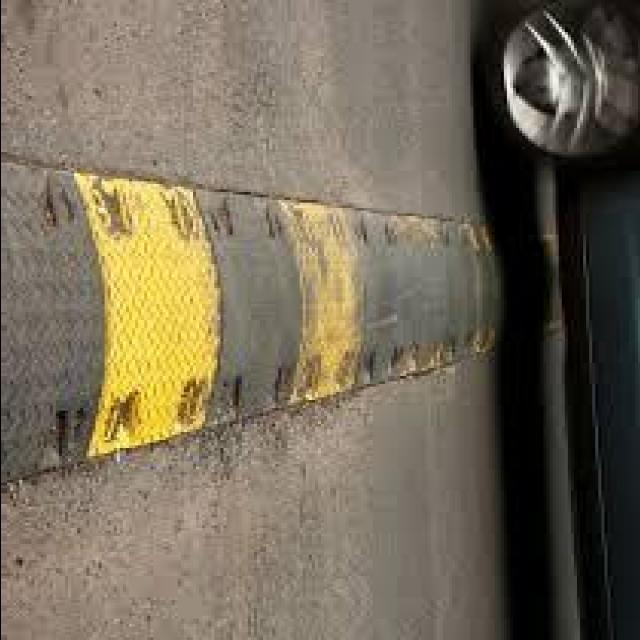speedbreaker: (0, 144, 505, 522)
